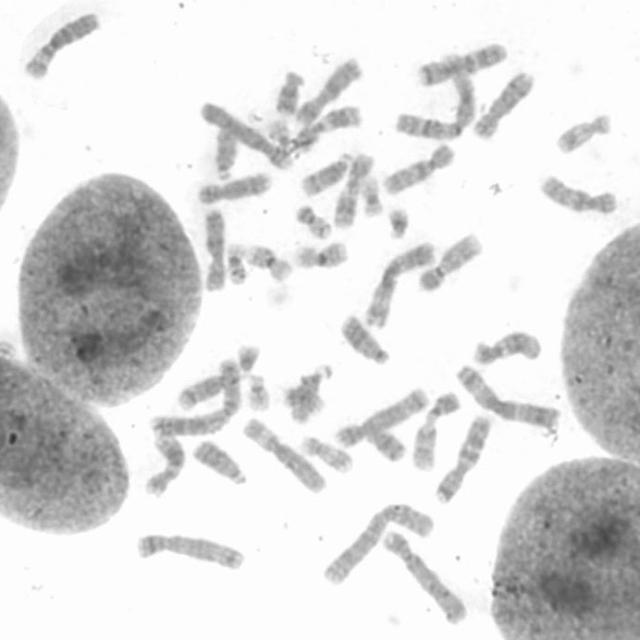A1: (392, 50, 476, 141)
A2: (320, 499, 437, 587), (146, 354, 242, 438)
A3: (451, 358, 562, 432), (360, 237, 439, 329)
B4: (379, 527, 470, 626), (195, 98, 294, 171)
B5: (330, 382, 430, 450), (132, 529, 247, 573)
C10: (378, 139, 458, 197), (534, 171, 618, 217)
C11: (330, 149, 376, 231), (292, 102, 364, 153)
C12: (468, 326, 545, 367), (140, 430, 186, 498)
C6: (240, 412, 328, 495), (19, 6, 102, 80)
C7: (431, 410, 493, 506), (412, 38, 508, 88)
C8: (470, 66, 537, 141), (193, 168, 273, 206)
C9: (414, 229, 485, 294), (409, 388, 461, 474)
D13: (335, 309, 391, 366), (188, 436, 248, 487)
D14: (173, 355, 243, 411), (297, 150, 354, 199)
D15: (285, 361, 336, 424), (210, 118, 241, 184)
E16: (242, 239, 296, 284), (291, 237, 349, 271)
E17: (552, 109, 613, 155), (298, 432, 355, 474)
E18: (358, 417, 408, 464), (270, 68, 304, 115)
F19: (358, 172, 384, 218), (224, 240, 249, 287)
F20: (291, 201, 334, 241), (280, 383, 325, 418)
G21: (233, 339, 263, 376), (384, 203, 411, 241)
G22: (264, 117, 294, 158), (243, 370, 271, 413)
X: (292, 54, 364, 128), (199, 205, 227, 292)
